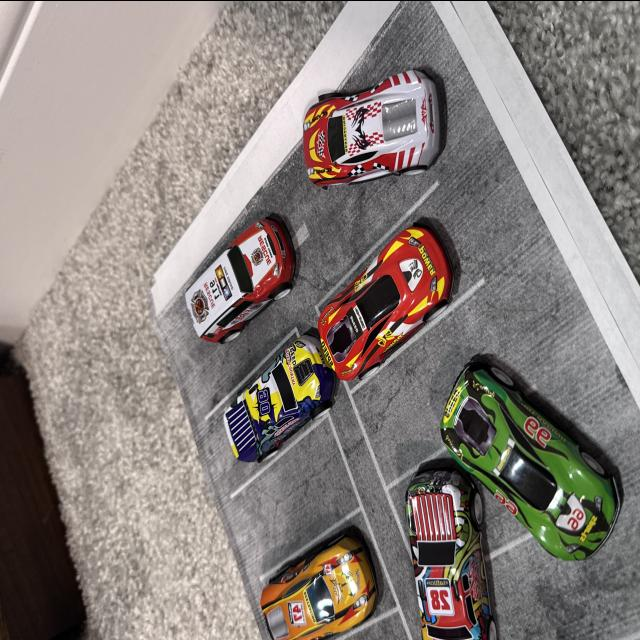Car: (432, 340, 640, 640), (316, 178, 466, 420), (198, 310, 349, 526), (382, 454, 522, 640), (179, 192, 313, 350), (221, 528, 377, 640), (287, 60, 429, 176)
